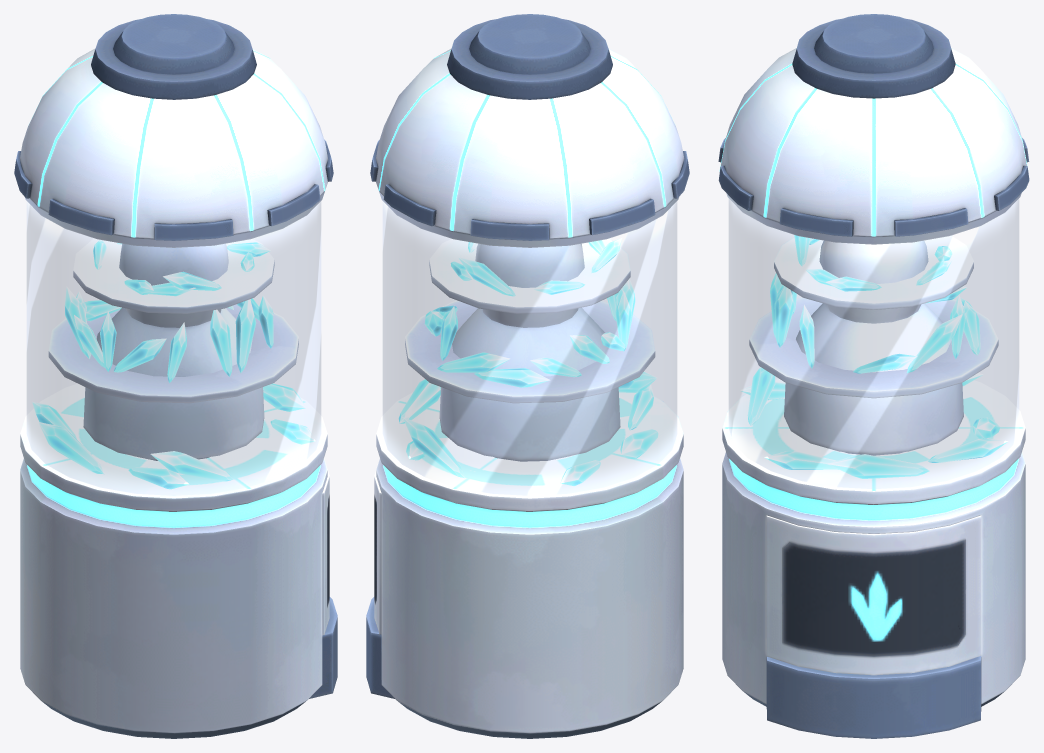
Rendered from obj_lab07.gltf.
The picture shows the model from 3 angles, left to right: view 1: azimuth 30°, elevation 25°; view 2: azimuth 150°, elevation 25°; view 3: azimuth 270°, elevation 25°; orthographic projection.
Visible parts, largest first — view 1: obj_lab07; view 2: obj_lab07; view 3: obj_lab07.
Part boxes in pixels (bbox=[...]): obj_lab07: bbox=[14, 14, 337, 738]; obj_lab07: bbox=[366, 14, 689, 738]; obj_lab07: bbox=[718, 14, 1029, 738].
Size of what is drawn, in the model's own units: 1.11 by 2.44 by 1.08.
3 materials, 3 textured.
